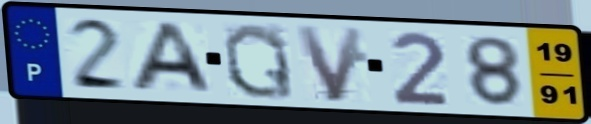2: (384, 28, 453, 108), (60, 17, 127, 91)
8: (459, 35, 526, 108)
A: (125, 20, 219, 95)
Q: (219, 20, 298, 101)
V: (290, 23, 369, 104)
